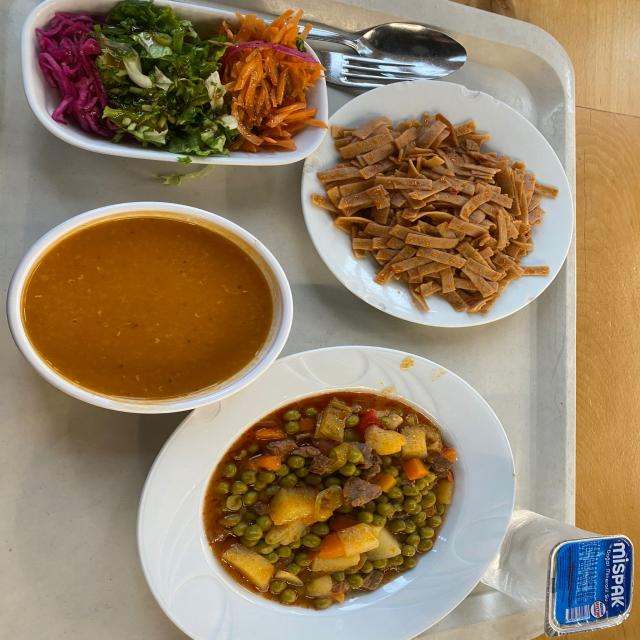ana_yemek: (156, 393, 511, 635), (314, 96, 575, 331), (32, 0, 319, 188)
corba: (24, 202, 278, 422)
